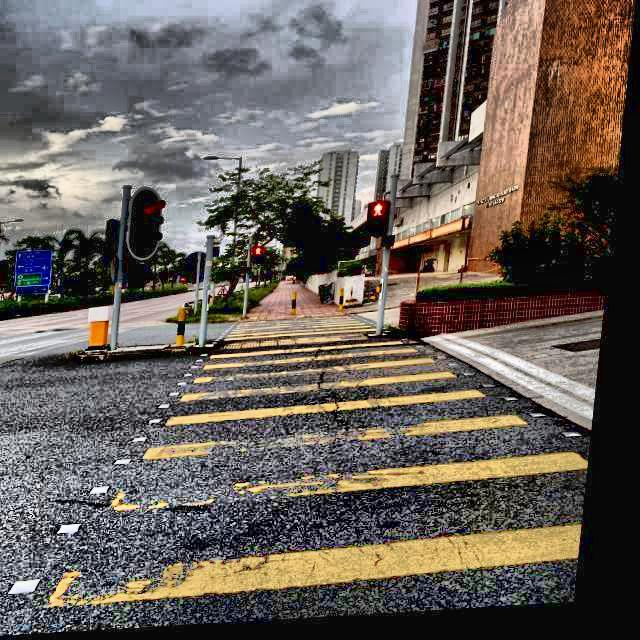faixa de pedestre: (28, 338, 590, 609)
